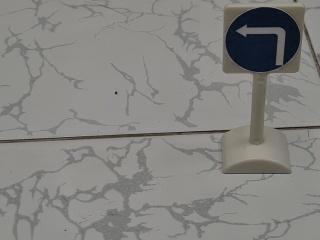left: (220, 3, 304, 74)
